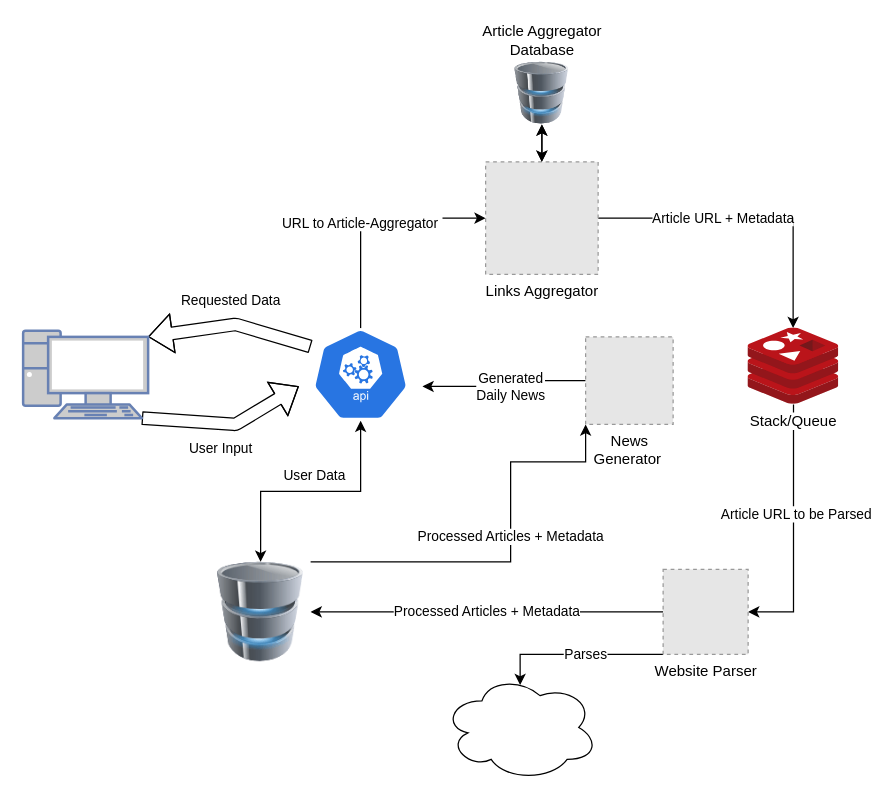
The diagram is 896 pixels wide and 803 high, and some of its shapes have lost their labels. Grey dashed boxes stand in for pictures. Each missing label, with the centre of its shape:
"Client" belongs at point (85, 374).
"Database" belongs at point (260, 611).
"Internet" belongs at point (520, 727).
